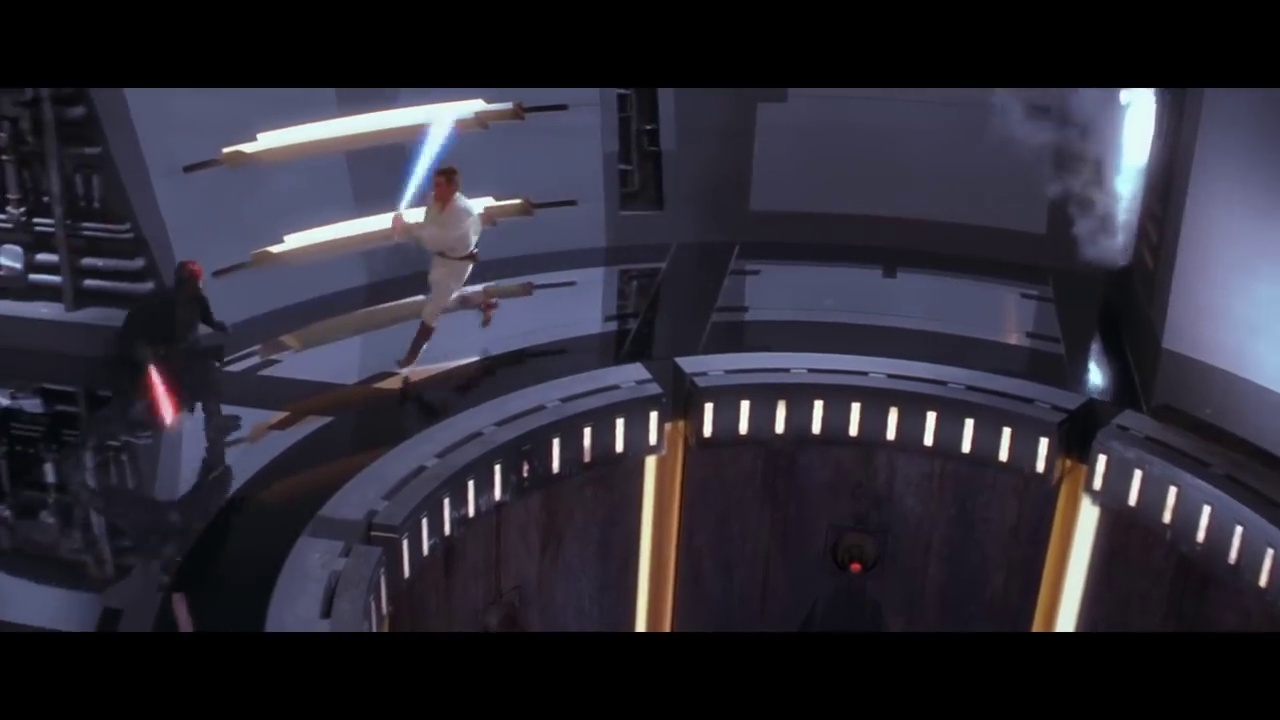lightsaber: (391, 106, 461, 243), (148, 358, 182, 431)
